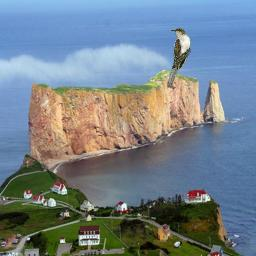Cuckoo: (167, 28, 191, 88)
